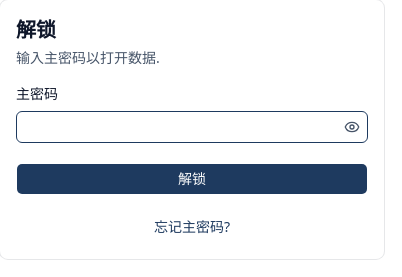
Test: UnlockScreen 忘记主密码入口 › 解锁进行中入口被禁用
Type "anything" into the password field labelled "主密码". click: (178, 127)
box: [17,111,340,143]
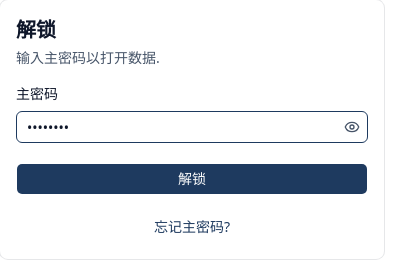
Click the button "解锁". click: (192, 179)
box: [16,163,368,195]
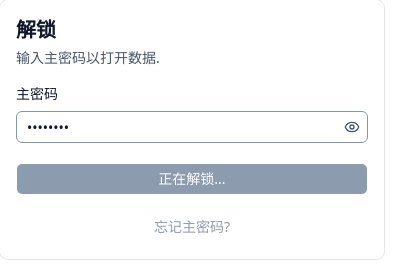
Now the button "忘记主密码?" is disabled, box [143,211,241,243]
